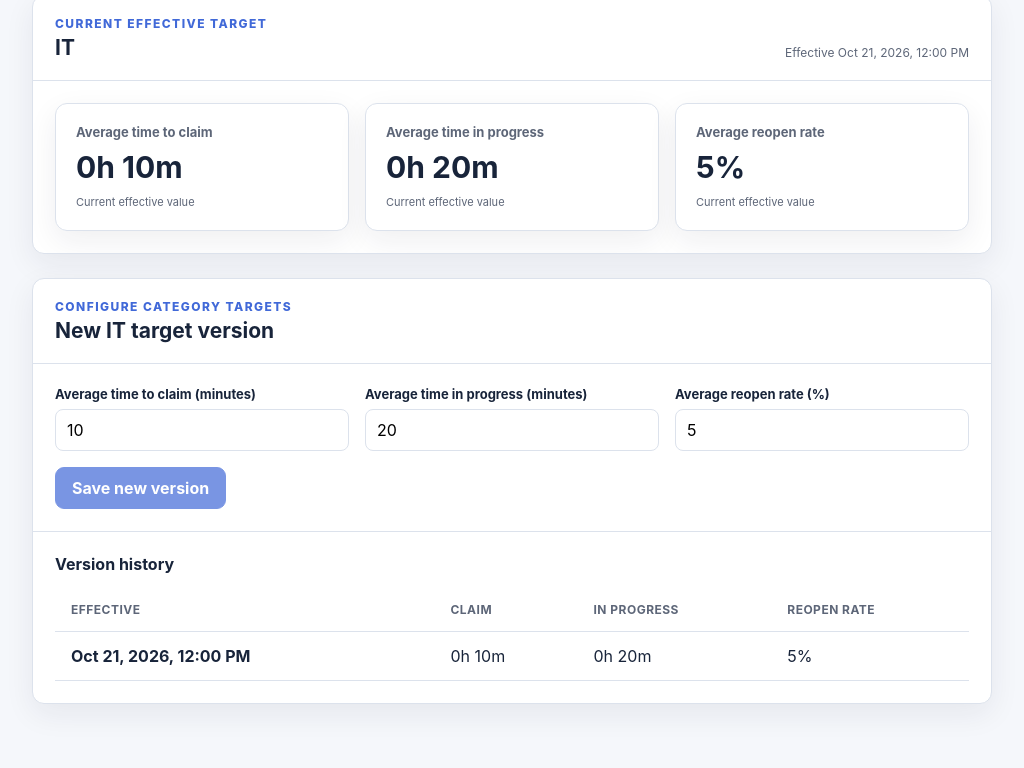
Test: AdministratorSloConfiguration › disables an unchanged save and sends the expected version after an edit
(page scrolled)
Expected: the button "Save new version" is disabled, left=55, top=467, right=226, bottom=509
Step 1. Replace the text in the number field labelled "Average time to claim (minutes)" with "11" → (202, 430), box left=55, top=409, right=349, bottom=451
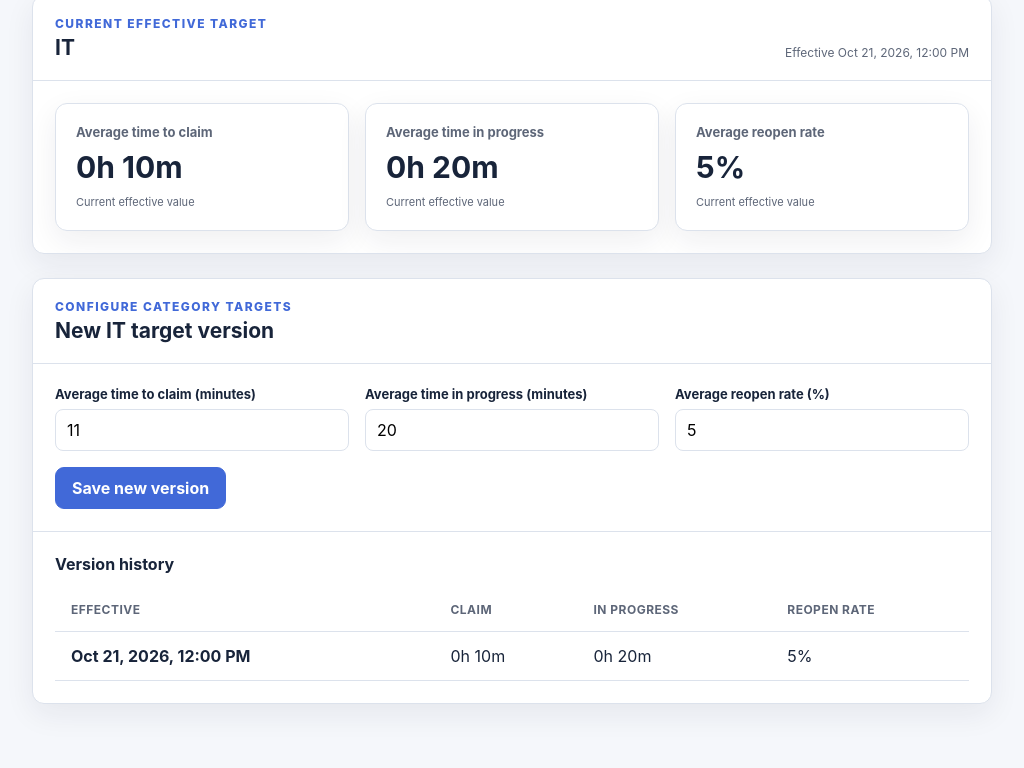
Step 2. Click the button "Save new version" → (141, 488), box left=55, top=467, right=226, bottom=509
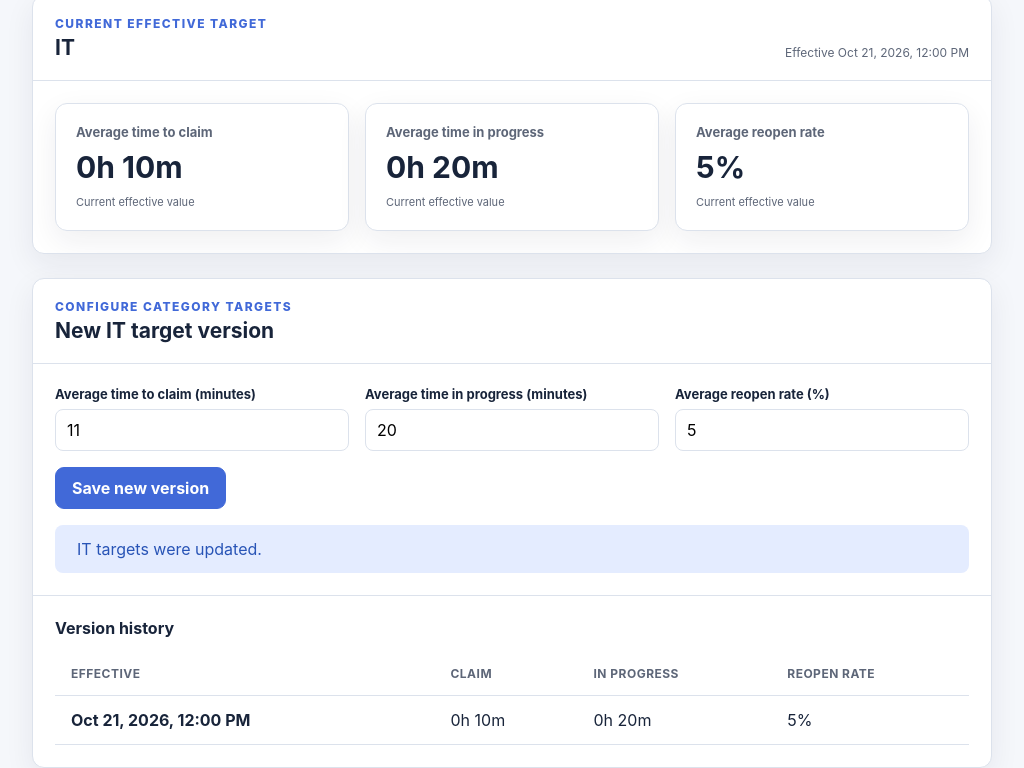
Result: the text "IT targets were updated." is shown at left=55, top=525, right=969, bottom=573
